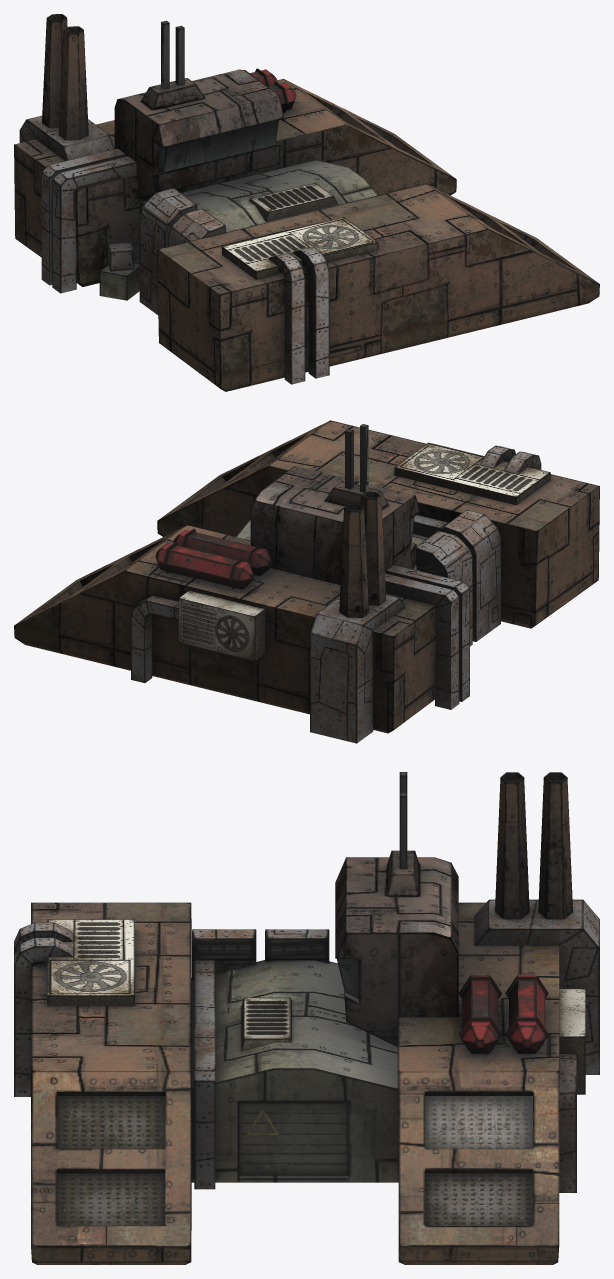
File: barack_1_b.fbx
3 renders of one model, top to bottom at view 1: azimuth 30°, elevation 25°; view 2: azimuth 150°, elevation 25°; view 3: azimuth 270°, elevation 25°, orthographic. The views are drawn at different scales.
Visible parts, largest first — view 1: barack; view 2: barack; view 3: barack, door, door.001.
Part boxes in pixels (left/top/right/bottom): barack: left=14, top=14, right=599, bottom=391; barack: left=14, top=420, right=599, bottom=743; barack: left=14, top=772, right=599, bottom=1264; door: left=293, top=1103, right=348, bottom=1175; door.001: left=239, top=1103, right=292, bottom=1175.
Bounding box in the file's own units: 800 × 474 × 800.
Materials: 1 (1 with a texture image).
